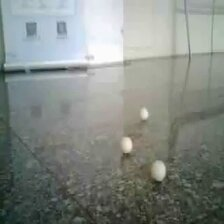tennis: (167, 95, 186, 120), (104, 69, 118, 87), (41, 59, 53, 77), (119, 53, 130, 68)
